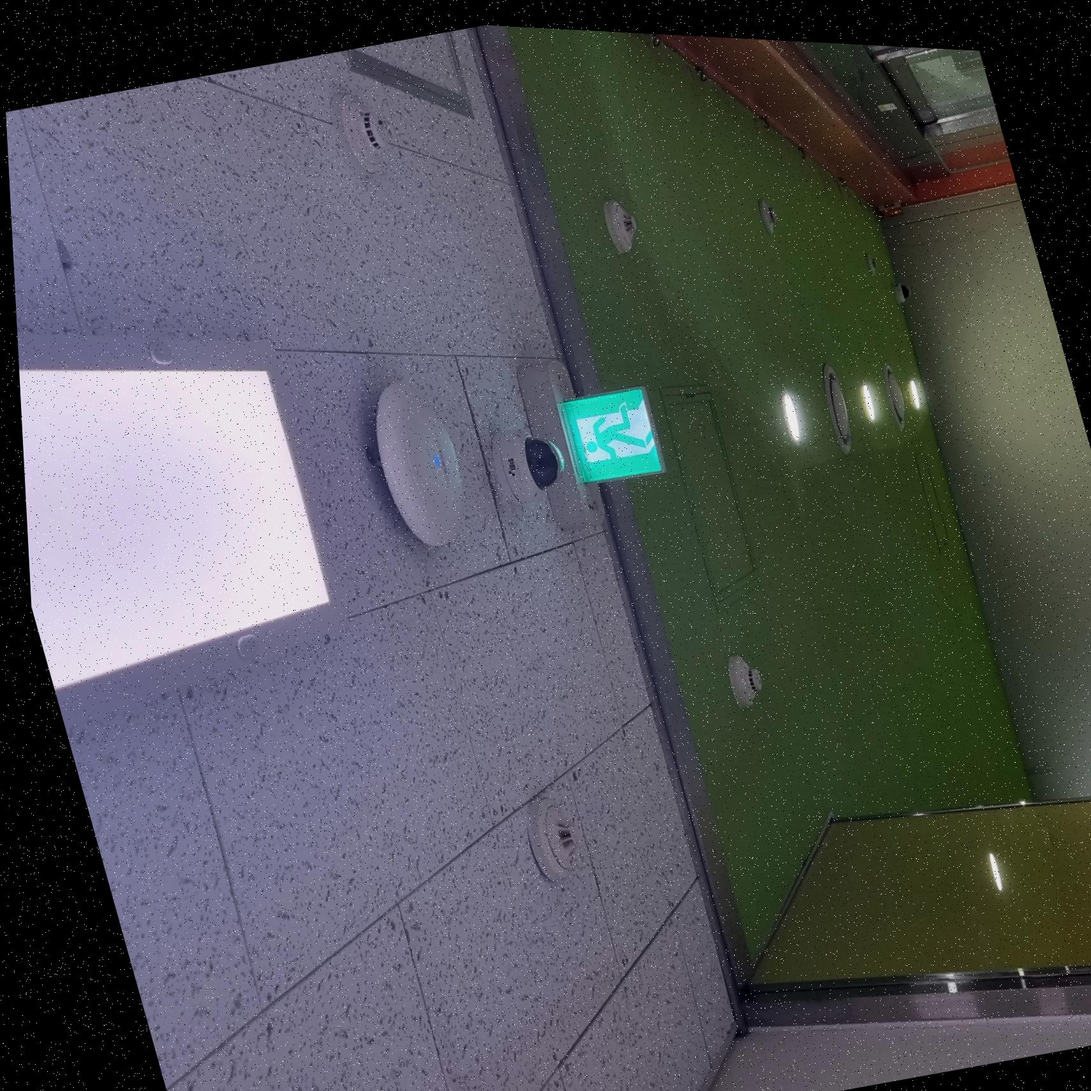emergency_exit: (557, 385, 665, 485)
